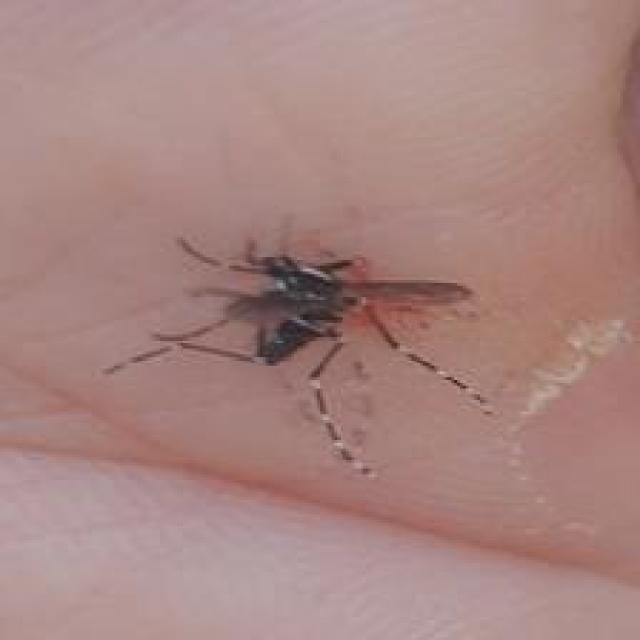Aedes albopictus: (103, 216, 497, 481)
